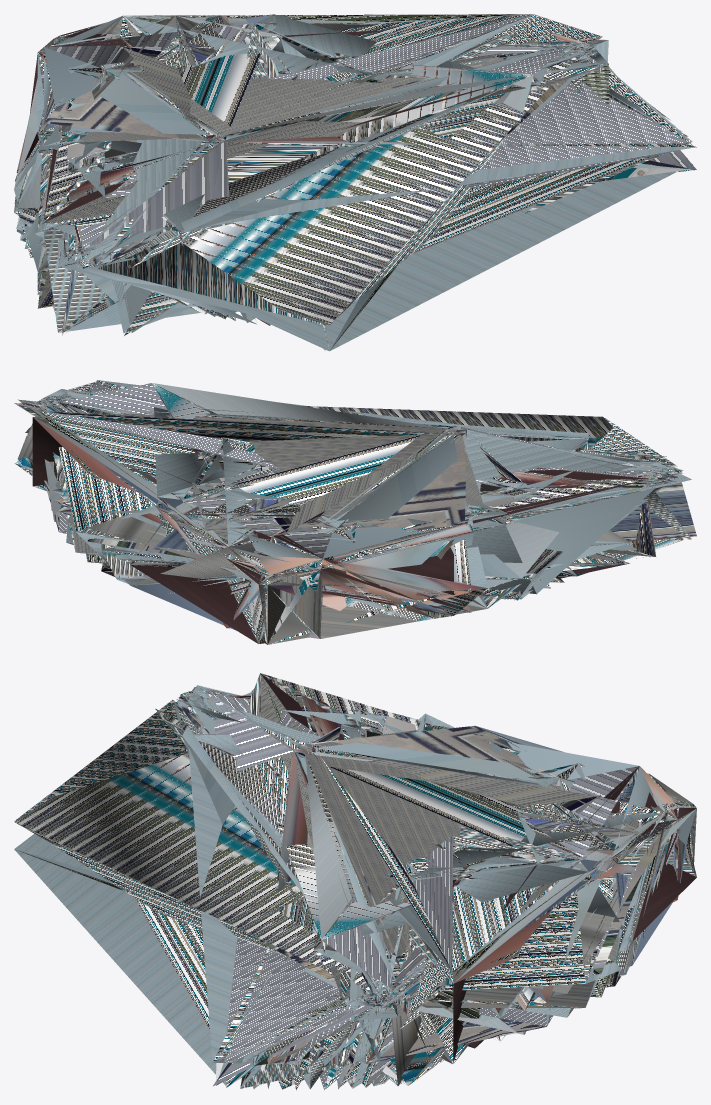
Rendered from fukdwarehouse.dae.
3 renders of one model, top to bottom at view 1: azimuth 30°, elevation 25°; view 2: azimuth 150°, elevation 25°; view 3: azimuth 270°, elevation 25°, orthographic. The views are drawn at different scales.
Visible parts, largest first — view 1: Model; view 2: Model; view 3: Model.
Boxes of the visible parts, <box> form: Model: <box>14,14,696,351</box>; Model: <box>14,380,696,644</box>; Model: <box>14,673,696,1090</box>.
Bounding box in the file's own units: 6373 × 5460 × 990.
